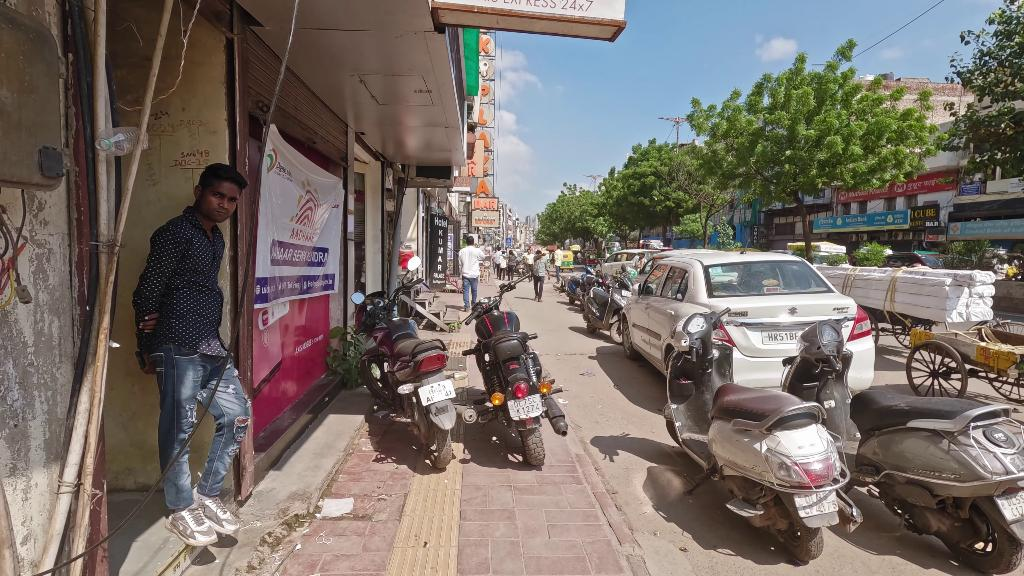garbage: (95, 122, 151, 160), (314, 495, 356, 522)
